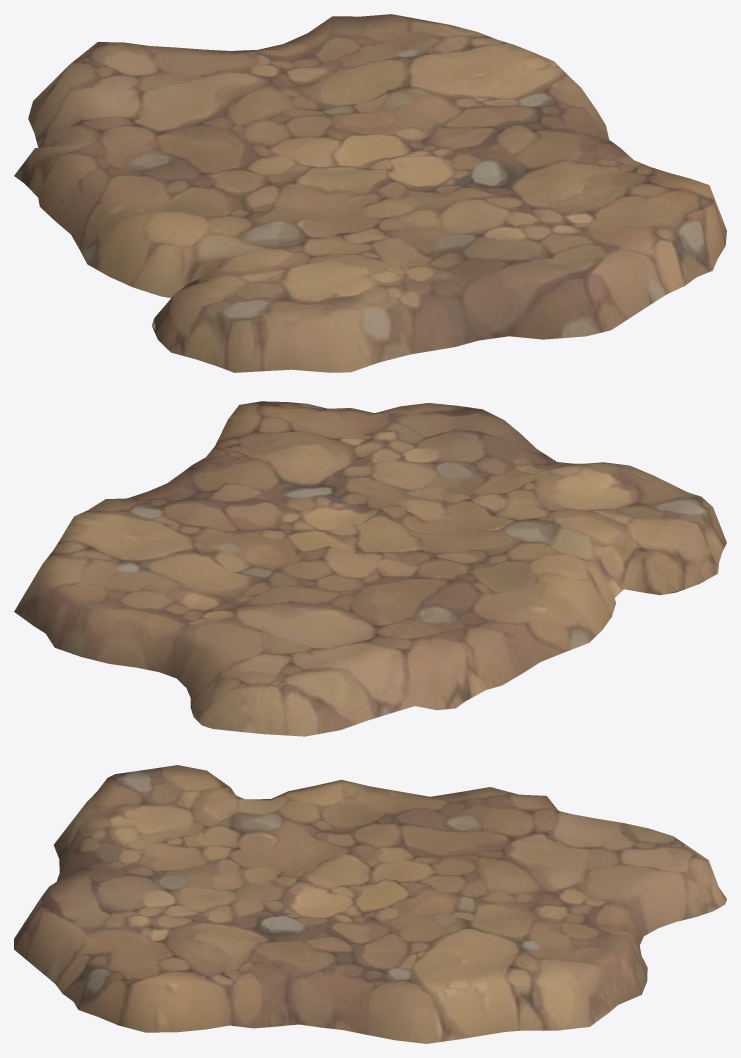
The model's file is DirtPath.fbx.
3 views of the same model, one above another, from view 1: azimuth 30°, elevation 25°; view 2: azimuth 150°, elevation 25°; view 3: azimuth 270°, elevation 25° (orthographic). The views are drawn at different scales.
Visible parts, largest first — view 1: DirtPath; view 2: DirtPath; view 3: DirtPath.
Boxes of the visible parts, x1,y1,x2,y2 form: DirtPath: (14, 14, 726, 372); DirtPath: (14, 401, 726, 736); DirtPath: (14, 765, 726, 1043).
Size of the model in its own units: 1.3 by 1.58 by 0.1131.
1 material, 1 textured.
